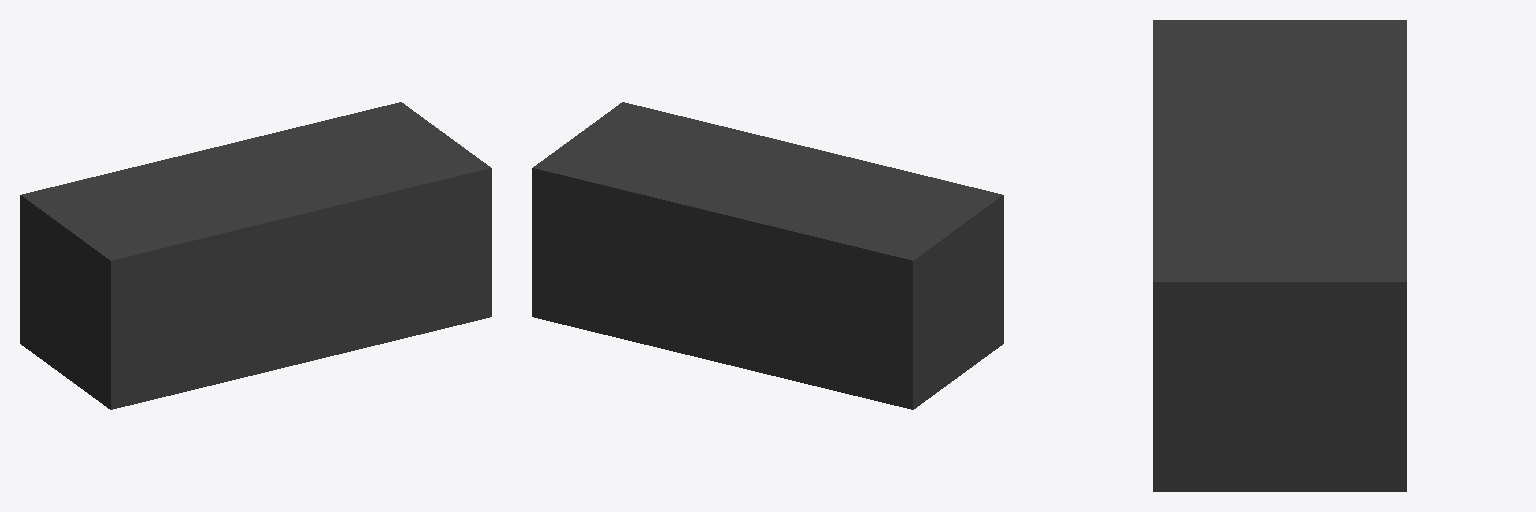
The robot description file, URDF, robot "box.urdf":
<?xml version="1.0" ?>
<robot name="box.urdf">
  <link name="baseLink">
    <contact>
      <lateral_friction value="1.0"/>
      <rolling_friction value="0.0001"/>
      <inertia_scaling value="3.0"/>
    </contact>
    <inertial>
      <origin rpy="0 0 0" xyz="0 0 0"/>
       <mass value="0.1"/>
       <inertia ixx="1" ixy="0" ixz="0" iyy="1" iyz="0" izz="1"/>
    </inertial>
    <visual>
      <origin rpy="0 0 0" xyz="0 0 0"/>
      <geometry>
        <!-- <box size="0.534 0.21899999999999997 0.2"/> -->
        <mesh filename="box/box.obj" scale="0.534 0.21899999999999997 0.2"/>
      </geometry>
      <material name="white">
        <color rgba="0.3 0.3 0.3 1"/>
      </material>
    </visual>
    <collision>
      <origin rpy="0 0 0" xyz="0 0 0"/>
      <geometry>
        <mesh filename="box/box.obj" scale="0.534 0.21899999999999997 0.2"/>
	 	    <!-- <box size="0.534 0.21899999999999997 0.2"/> -->
      </geometry>
    </collision>
  </link>
</robot>

--- Render facts (derived) ---
Views: 3 orthographic renders of the robot side by side, from view 1: azimuth 30°, elevation 25°; view 2: azimuth 150°, elevation 25°; view 3: azimuth 270°, elevation 25°.
Model box.urdf with 1 links and 0 joints (none), rooted at baseLink, posed every joint at zero.
Visible links, largest first — view 1: baseLink; view 2: baseLink; view 3: baseLink.
Link boxes in pixels (x1,y1,x2,y2): baseLink: (20, 102, 491, 409); baseLink: (532, 102, 1003, 409); baseLink: (1153, 20, 1406, 491).
Size in the robot's own frame: 0.534 by 0.219 by 0.2 metres.
Meshes: 1 distinct files referenced, 1 mesh visuals loaded (1 OBJ).
